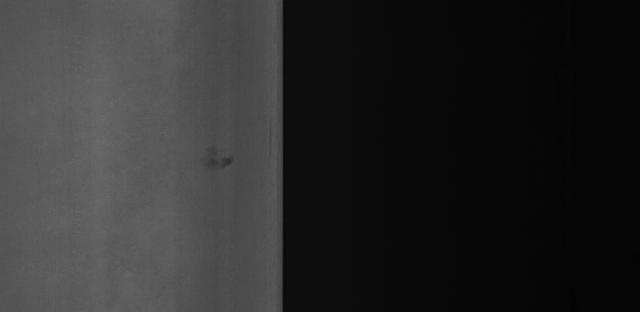oil_spot: (204, 143, 238, 177)
